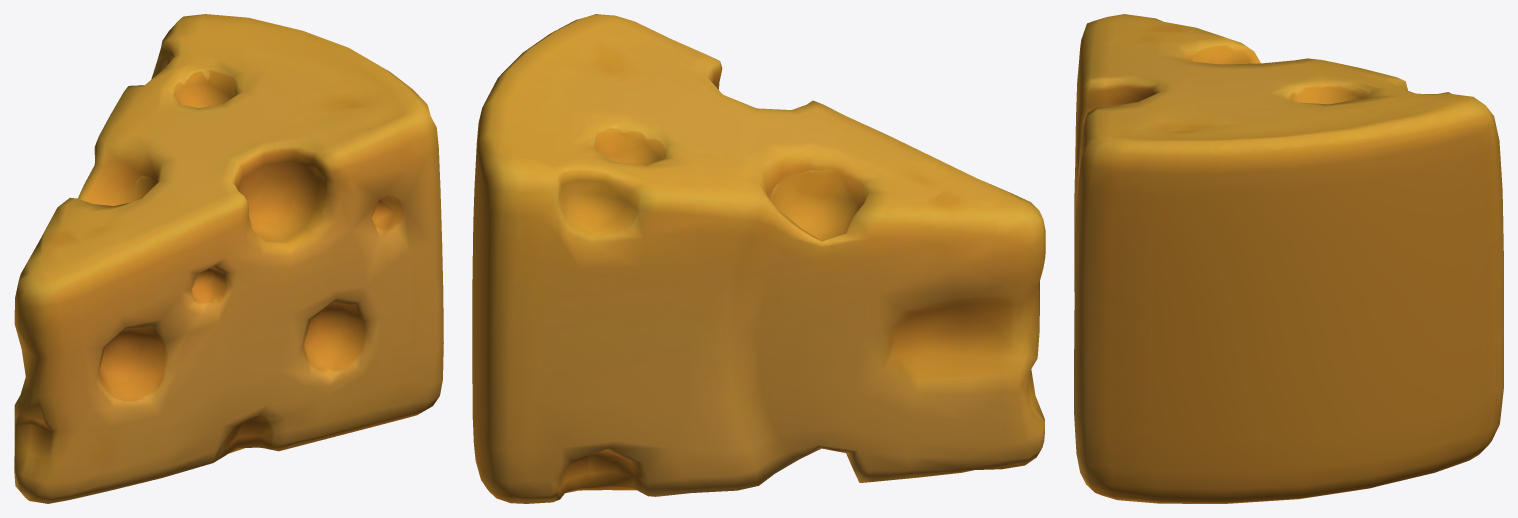
The model's file is product-cheese.glb.
3 views of the same model, side by side, from view 1: azimuth 30°, elevation 25°; view 2: azimuth 150°, elevation 25°; view 3: azimuth 270°, elevation 25° (orthographic). The views are drawn at different scales.
Visible parts, largest first — view 1: n4; view 2: n4; view 3: n4.
Boxes of the visible parts, x1,y1,x2,y2 form: n4: (14, 14, 443, 503); n4: (472, 14, 1045, 503); n4: (1074, 14, 1503, 503).
Bounding box in the file's own units: 0.16 × 0.1113 × 0.1195.
Materials: 1 (1 with a texture image).
